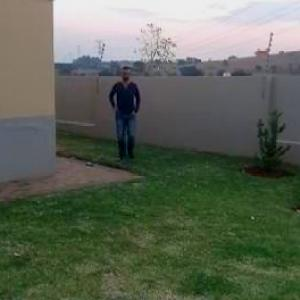follow: (107, 64, 142, 166)
